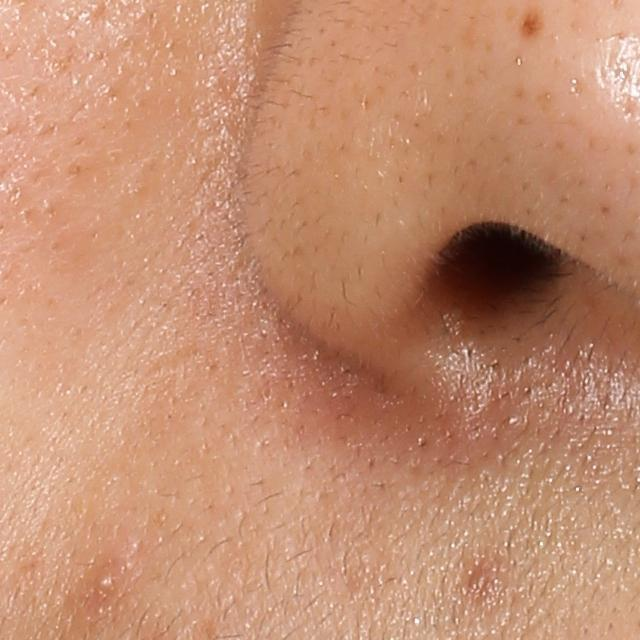nevus: (517, 12, 541, 40)
